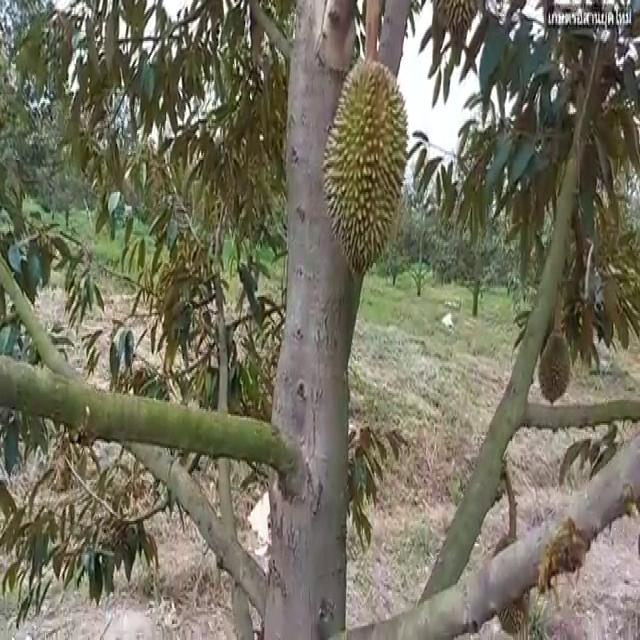durian: (318, 47, 412, 288), (535, 324, 575, 407)
